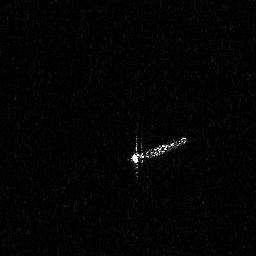ship: (125, 128, 188, 182)
